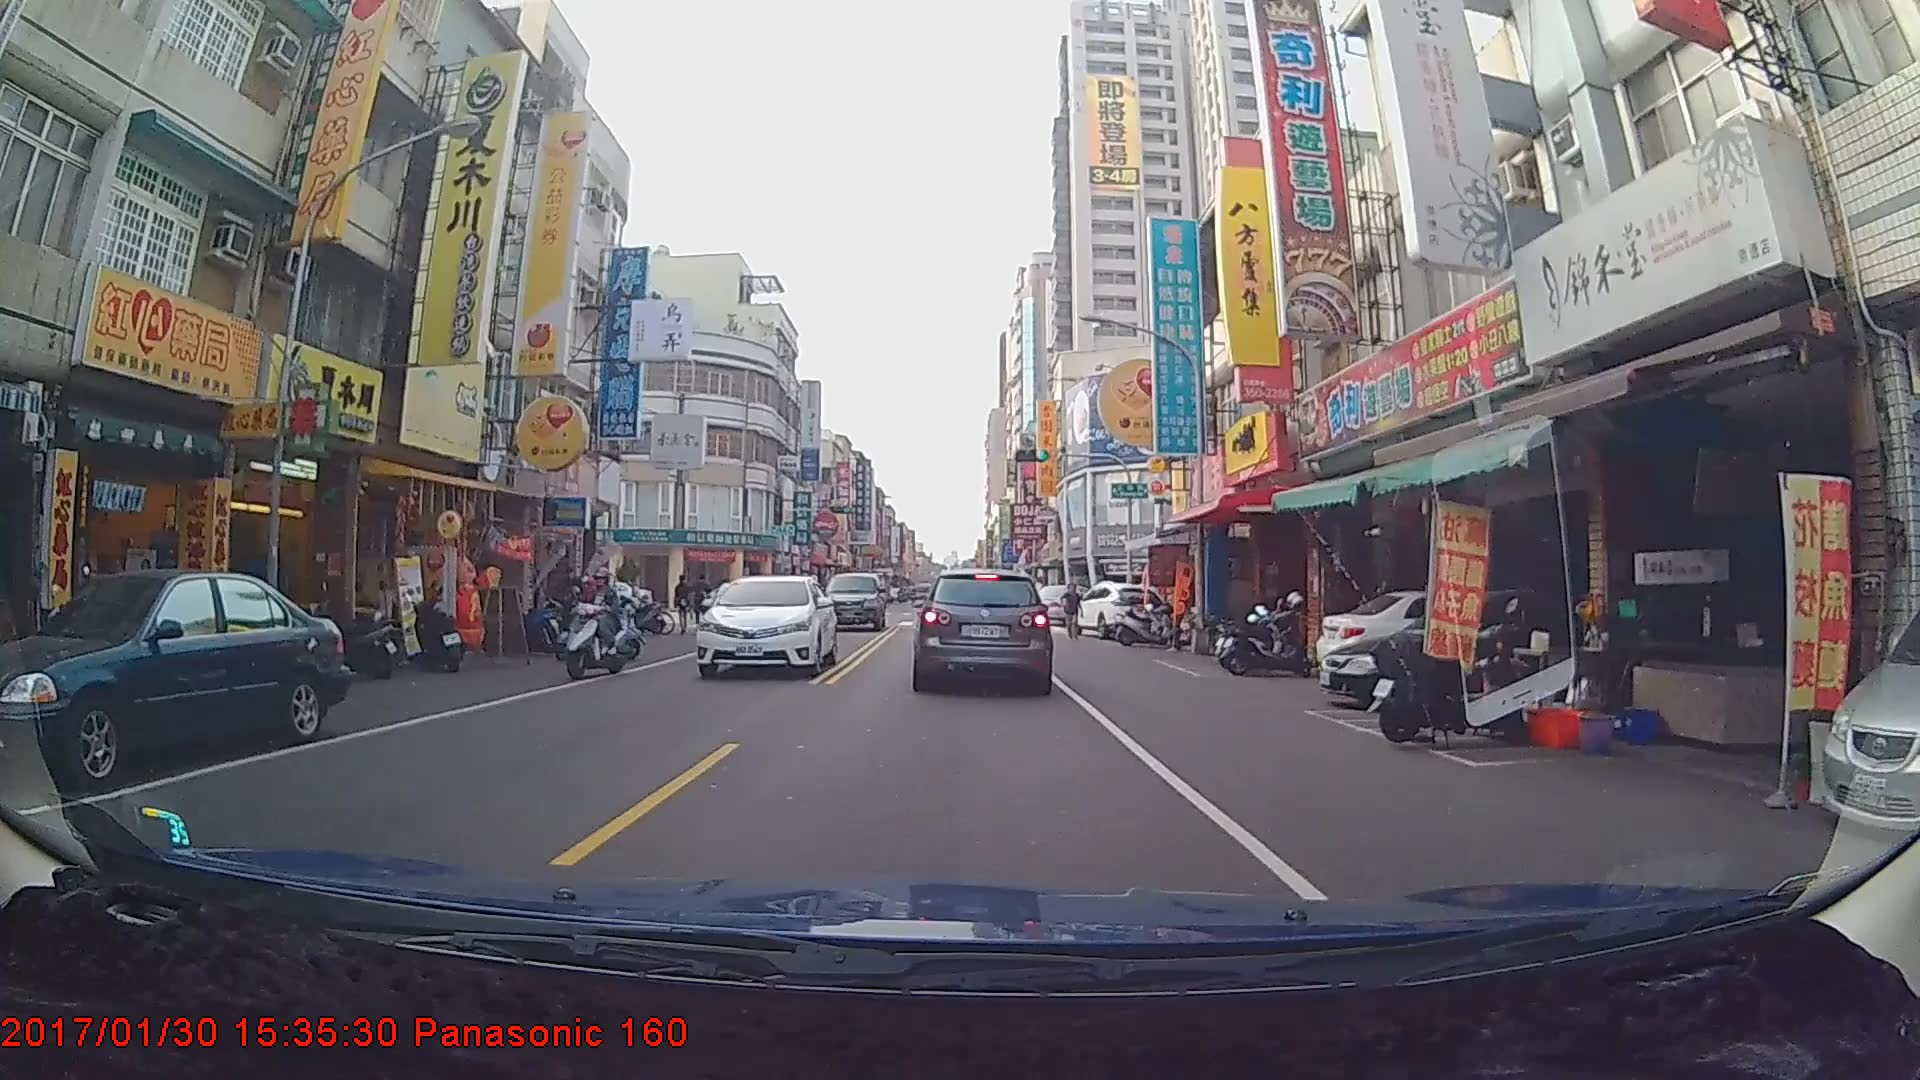pedestrian: (1062, 583, 1083, 641)
rider: (561, 564, 638, 684)
vehicle: (0, 568, 344, 775), (911, 567, 1052, 690), (694, 572, 838, 676), (1069, 580, 1169, 640), (817, 570, 886, 632)
